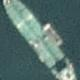ship: (0, 0, 40, 40)
